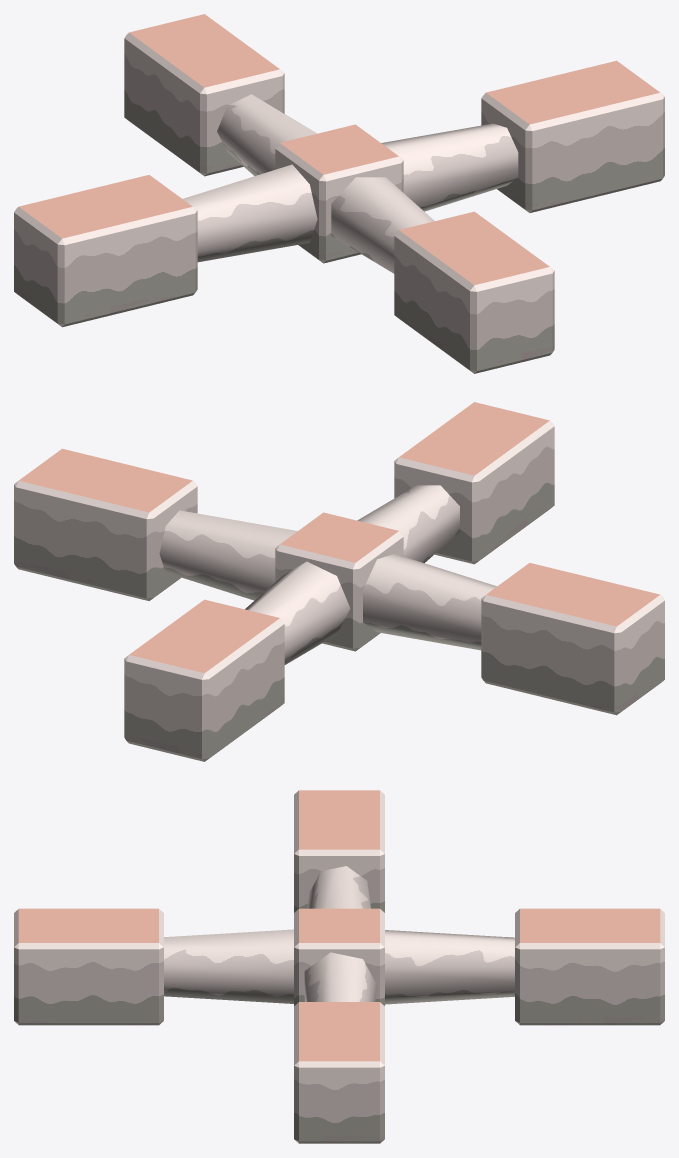
Rendered from R4C_ROD_PLUS_LOD1.glb.
3 renders of one model, top to bottom at view 1: azimuth 30°, elevation 25°; view 2: azimuth 150°, elevation 25°; view 3: azimuth 270°, elevation 25°, orthographic. The views are drawn at different scales.
Visible parts, largest first — view 1: R4C_ROD_PLUS_LOD1; view 2: R4C_ROD_PLUS_LOD1; view 3: R4C_ROD_PLUS_LOD1.
Part boxes in pixels (x1,y1,x2,y2): R4C_ROD_PLUS_LOD1: [14, 14, 664, 373]; R4C_ROD_PLUS_LOD1: [14, 402, 664, 761]; R4C_ROD_PLUS_LOD1: [14, 790, 664, 1143].
Size of the model in its own units: 1.62 by 0.226 by 1.62.
3 materials, 3 textured.
